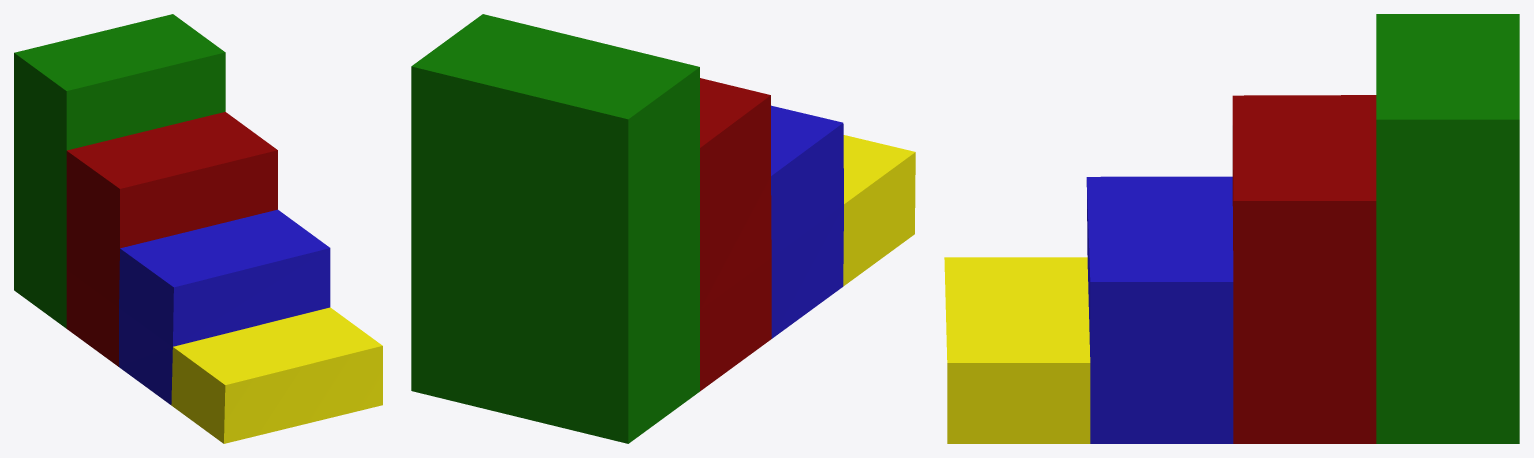
File: stairs2.FBX
3 renders of one model, left to right at view 1: azimuth 30°, elevation 25°; view 2: azimuth 150°, elevation 25°; view 3: azimuth 270°, elevation 25°, orthographic. The views are drawn at different scales.
Visible parts, largest first — view 1: Box001; view 2: Box001; view 3: Box001.
Part boxes in pixels (x1,y1,x2,y2): Box001: [14, 14, 382, 443]; Box001: [411, 14, 915, 443]; Box001: [944, 14, 1519, 443].
Size of the model in its own units: 35 by 50 by 80.39.
